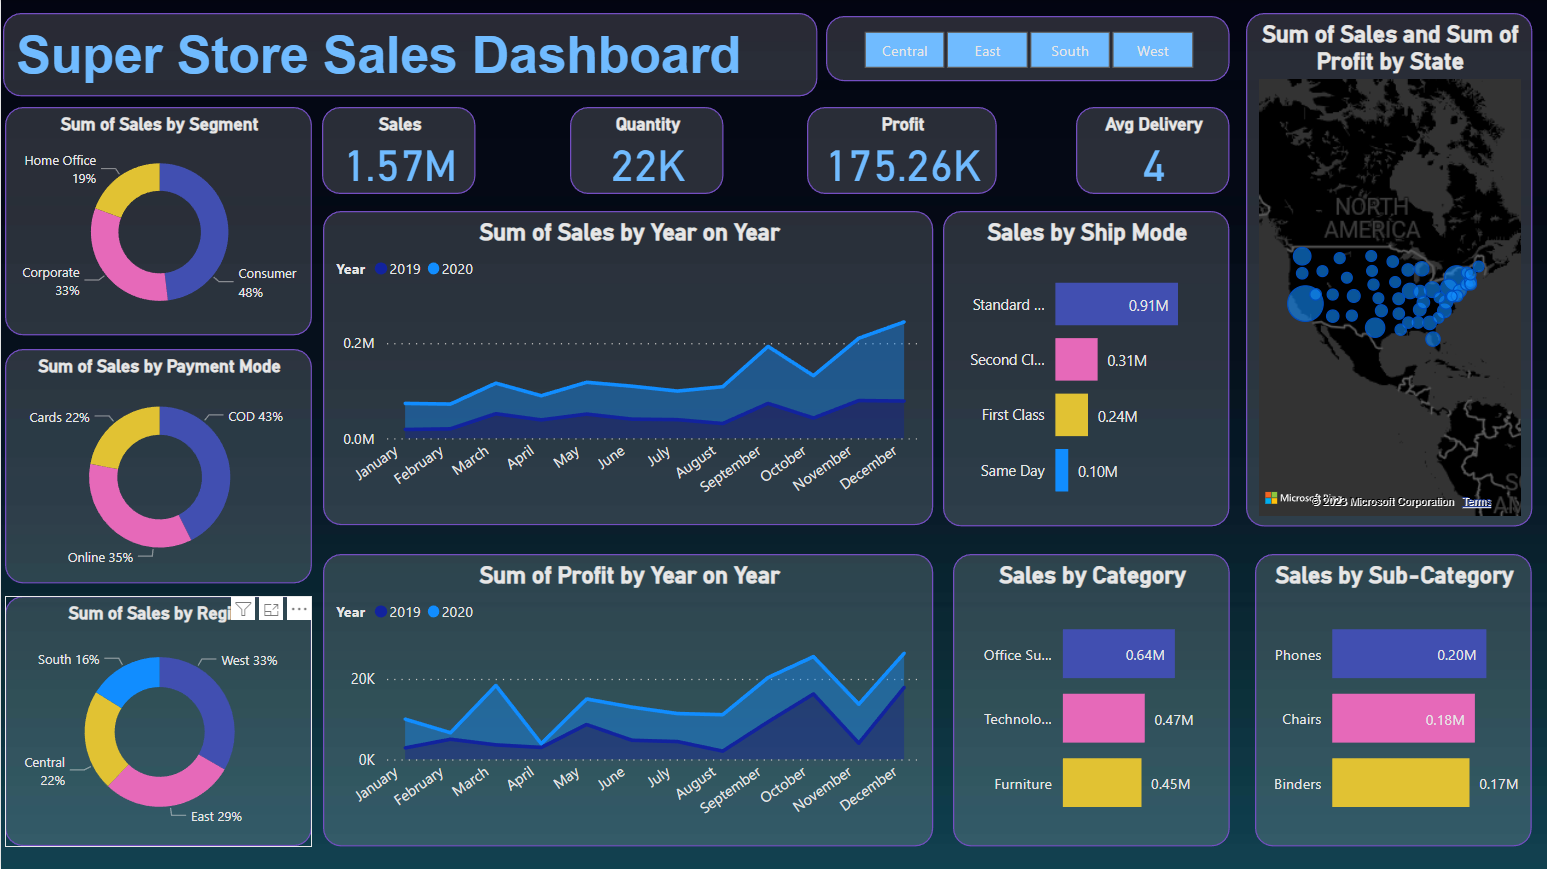

What the dashboard file says about the page in this screenshot:
{"tool":"powerbi","page":{"name":"Dashboard","canvas":[1280,720],"ordinal":0},"visuals":[{"type":"clusteredBarChart","title":"Sales by Category","fields":{"Category":["SuperStore_Sales_Dataset.Category"],"Y":["Sum(SuperStore_Sales_Dataset.Sales)"]},"box":[787.6,458.3,229.2,242.3],"z":0},{"type":"clusteredBarChart","title":"Sales by Sub-Category","fields":{"Y":["Sum(SuperStore_Sales_Dataset.Sales)"],"Category":["SuperStore_Sales_Dataset.Sub-Category"]},"box":[1037.9,458.3,229.2,242.3],"z":1000},{"type":"clusteredBarChart","title":"Sales by Ship Mode","fields":{"Y":["Sum(SuperStore_Sales_Dataset.Sales)"],"Category":["SuperStore_Sales_Dataset.Ship Mode"]},"box":[779.7,174.7,237.1,260.8],"z":2000},{"type":"stackedAreaChart","title":"Sum of Sales by Year on Year","fields":{"Y":["Sum(SuperStore_Sales_Dataset.Sales)"],"Category":["SuperStore_Sales_Dataset.Order Date.Variation.Date Hierarchy.Month","SuperStore_Sales_Dataset.Order Date.Variation.Date Hierarchy.Day"],"Series":["SuperStore_Sales_Dataset.Order Date.Variation.Date Hierarchy.Year"]},"box":[266.3,174.9,505.4,260.5],"z":3000},{"type":"stackedAreaChart","title":"Sum of Profit by Year on Year","fields":{"Category":["SuperStore_Sales_Dataset.Order Date.Variation.Date Hierarchy.Month","SuperStore_Sales_Dataset.Order Date.Variation.Date Hierarchy.Day"],"Series":["SuperStore_Sales_Dataset.Order Date.Variation.Date Hierarchy.Year"],"Y":["Sum(SuperStore_Sales_Dataset.Profit)"]},"box":[266.3,458.7,505.4,242],"z":4000},{"type":"map","fields":{"Category":["SuperStore_Sales_Dataset.State"],"Size":["Sum(SuperStore_Sales_Dataset.Sales)"]},"box":[1030,10.5,237.1,425],"z":5000},{"type":"donutChart","fields":{"Category":["SuperStore_Sales_Dataset.Segment"],"Y":["Sum(SuperStore_Sales_Dataset.Sales)"]},"box":[3.5,88.7,253.8,188.8],"z":6000},{"type":"donutChart","fields":{"Y":["Sum(SuperStore_Sales_Dataset.Sales)"],"Category":["SuperStore_Sales_Dataset.Payment Mode"]},"box":[3.5,288.9,253.8,194],"z":7000},{"type":"slicer","fields":{"Values":["SuperStore_Sales_Dataset.Region"]},"box":[683.1,13.2,333.7,53.6],"z":8000},{"type":"donutChart","fields":{"Y":["Sum(SuperStore_Sales_Dataset.Sales)"],"Category":["SuperStore_Sales_Dataset.Region"]},"box":[3.5,493.5,253.8,207.2],"z":9000},{"type":"textbox","box":[1.8,10.5,674.3,69.4],"z":9001},{"type":"card","title":"Sales","fields":{"Values":["Sum(SuperStore_Sales_Dataset.Sales)"]},"box":[266,88.7,127.3,72],"z":9002},{"type":"card","title":"Quantity","fields":{"Values":["Sum(SuperStore_Sales_Dataset.Quantity)"]},"box":[470.6,88.7,127.3,72],"z":9003},{"type":"card","title":"Profit","fields":{"Values":["Sum(SuperStore_Sales_Dataset.Profit)"]},"box":[667.3,88.7,157.2,72],"z":9004},{"type":"card","title":"Avg Delivery","fields":{"Values":["Avg(SuperStore_Sales_Dataset.AvgDelivery)"]},"box":[889.5,88.6,127.3,72],"z":9005}]}

Visuals, with their boxes in screenshot pixels (x1, y1, x2, y2), scaled from the page's 1280x720 canvas onto the 1547x869 screenshot:
"Sales by Category" clusteredBarChart: [952, 553, 1229, 846]
"Sales by Sub-Category" clusteredBarChart: [1254, 553, 1531, 846]
"Sales by Ship Mode" clusteredBarChart: [942, 211, 1229, 526]
"Sum of Sales by Year on Year" stackedAreaChart: [322, 211, 933, 526]
"Sum of Profit by Year on Year" stackedAreaChart: [322, 554, 933, 846]
map - SuperStore_Sales_Dataset.State x Sum(SuperStore_Sales_Dataset.Sales): [1245, 13, 1531, 526]
donutChart - SuperStore_Sales_Dataset.Segment x Sum(SuperStore_Sales_Dataset.Sales): [4, 107, 311, 335]
donutChart - Sum(SuperStore_Sales_Dataset.Sales) x SuperStore_Sales_Dataset.Payment Mode: [4, 349, 311, 583]
slicer - SuperStore_Sales_Dataset.Region: [826, 16, 1229, 81]
donutChart - Sum(SuperStore_Sales_Dataset.Sales) x SuperStore_Sales_Dataset.Region: [4, 596, 311, 846]
textbox: [2, 13, 817, 96]
"Sales" card: [321, 107, 475, 194]
"Quantity" card: [569, 107, 723, 194]
"Profit" card: [806, 107, 996, 194]
"Avg Delivery" card: [1075, 107, 1229, 194]
